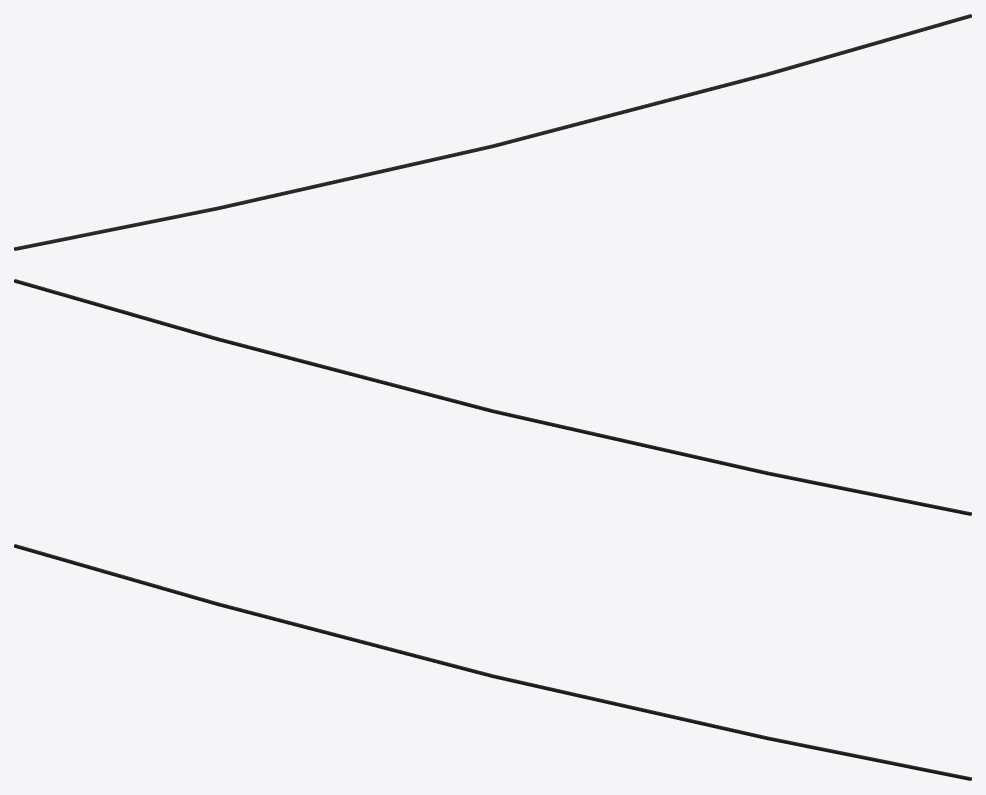
Rendered from SM_BuildingsDecor_12.fbx.
3 renders of one model, top to bottom at view 1: azimuth 30°, elevation 25°; view 2: azimuth 150°, elevation 25°; view 3: azimuth 330°, elevation 25°, orthographic.
Parts seen in each view (by area): view 1: SM_BuildingsDecor_12; view 2: SM_BuildingsDecor_12; view 3: SM_BuildingsDecor_12.
Boxes of the visible parts, <box> form: SM_BuildingsDecor_12: <box>14,14,971,250</box>; SM_BuildingsDecor_12: <box>14,279,971,515</box>; SM_BuildingsDecor_12: <box>14,544,971,780</box>.
Bounding box in the file's own units: 10 × 0.1623 × 0.025.
